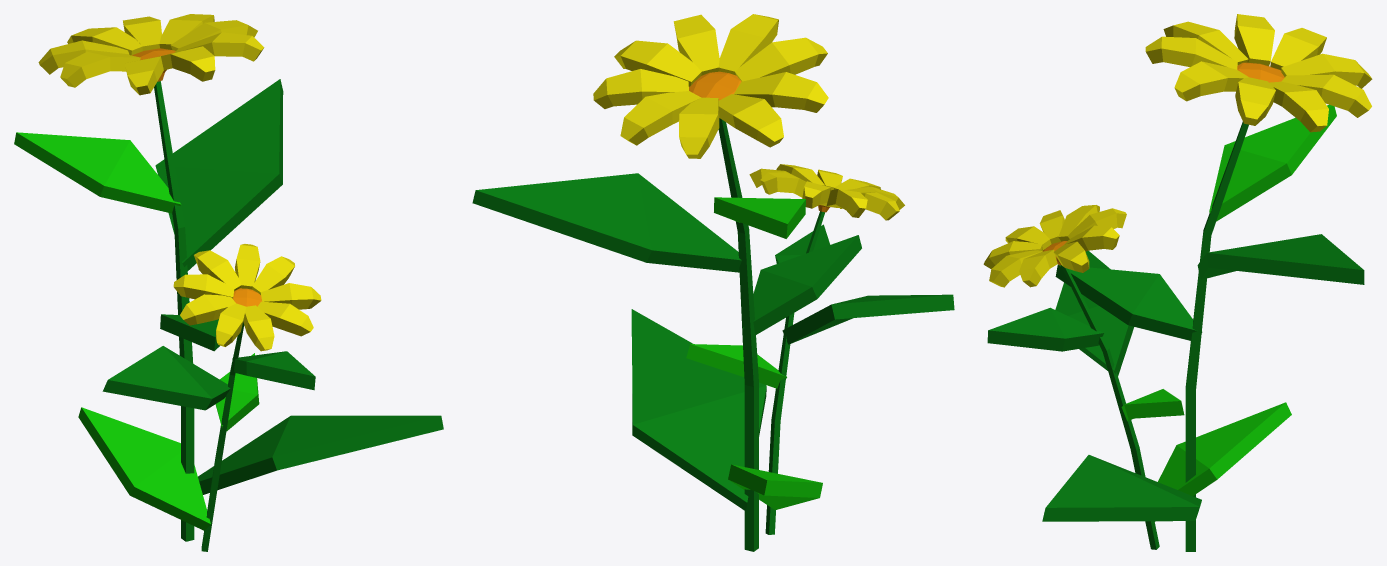
The model's file is Flower04_V2.fbx.
3 views of the same model, side by side, from view 1: azimuth 30°, elevation 25°; view 2: azimuth 150°, elevation 25°; view 3: azimuth 270°, elevation 25° (orthographic). The views are drawn at different scales.
Visible parts, largest first — view 1: Cube.004; view 2: Cube.004; view 3: Cube.004.
Part boxes in pixels (x1,y1,x2,y2): Cube.004: (14, 14, 443, 551); Cube.004: (472, 14, 954, 551); Cube.004: (983, 14, 1372, 551).
Bounding box in the file's own units: 25.49 × 37.03 × 25.71.
